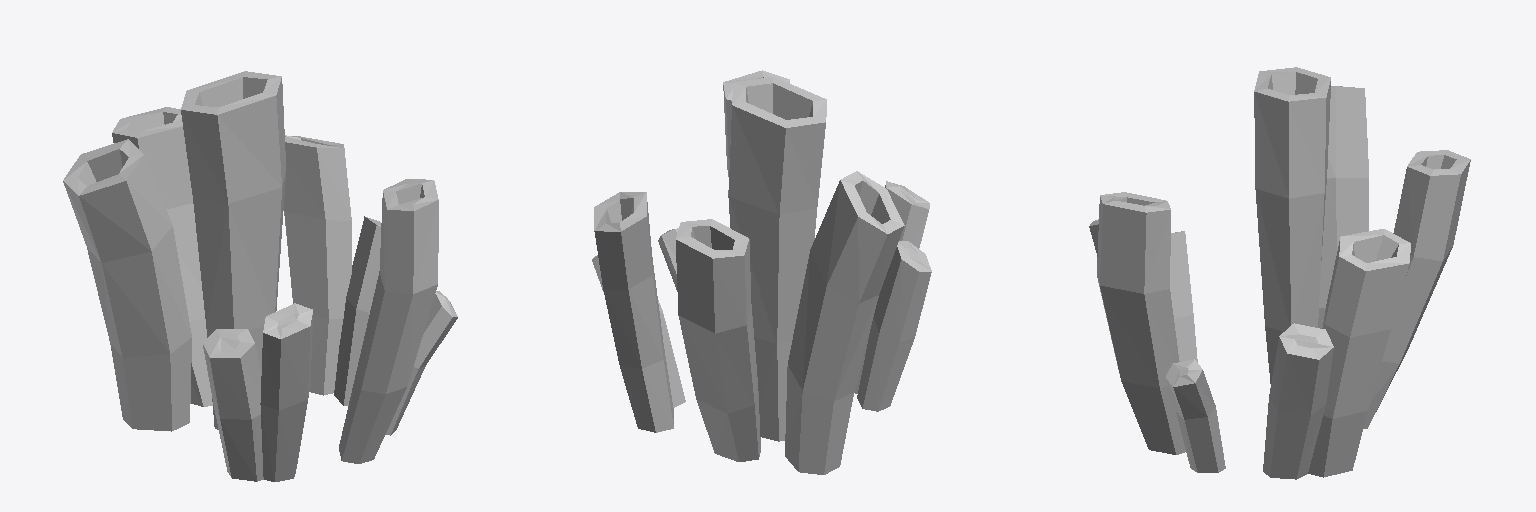
File: Coral_D_02_LOD3.obj
The picture shows the model from 3 angles: view 1: azimuth 30°, elevation 25°; view 2: azimuth 150°, elevation 25°; view 3: azimuth 270°, elevation 25°; orthographic projection.
Visible parts, largest first — view 1: Coral_D_02_LOD3_Cylinder.442; view 2: Coral_D_02_LOD3_Cylinder.442; view 3: Coral_D_02_LOD3_Cylinder.442.
Part boxes in pixels (left/top/right/bottom): Coral_D_02_LOD3_Cylinder.442: left=63, top=71, right=457, bottom=481; Coral_D_02_LOD3_Cylinder.442: left=592, top=70, right=931, bottom=474; Coral_D_02_LOD3_Cylinder.442: left=1089, top=67, right=1470, bottom=479.
Size of the model in its own units: 4.16 by 4.29 by 4.39.